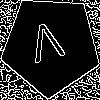V: (26, 20, 69, 73)
